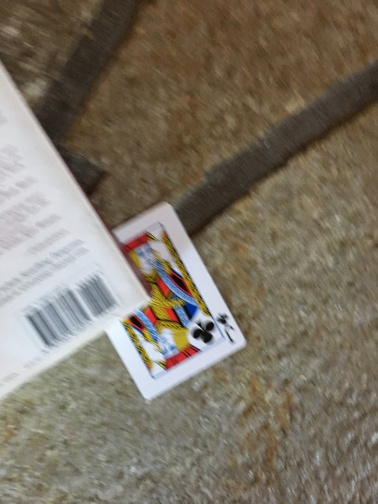jack: (99, 200, 248, 403)
